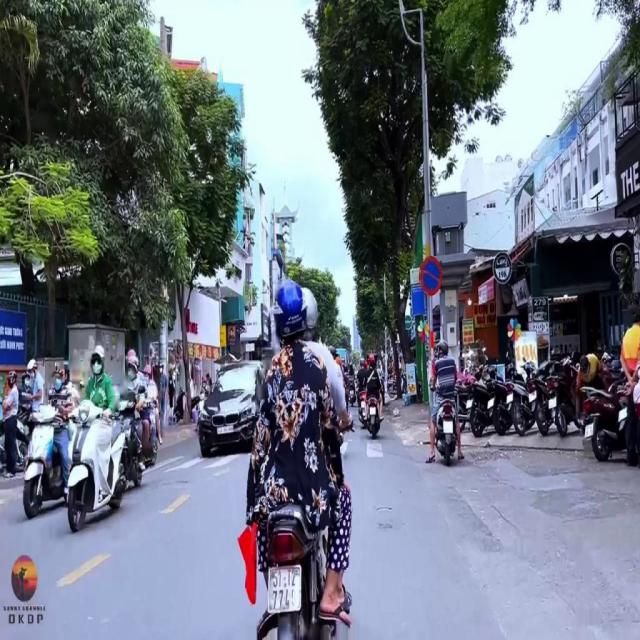cam_do_xe: (419, 256, 442, 294)
